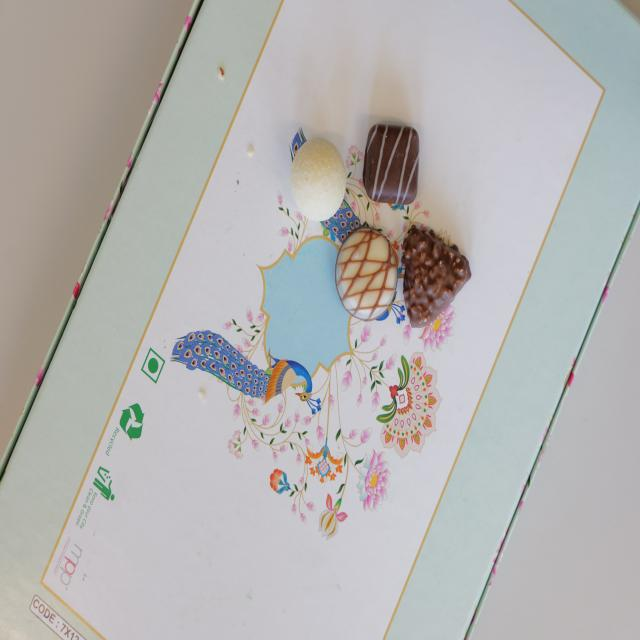Comtesse: (290, 136, 345, 222)
Creme_brulee: (332, 222, 401, 324)
Stracciatella: (364, 115, 419, 208)
Triangolo: (401, 224, 471, 325)
